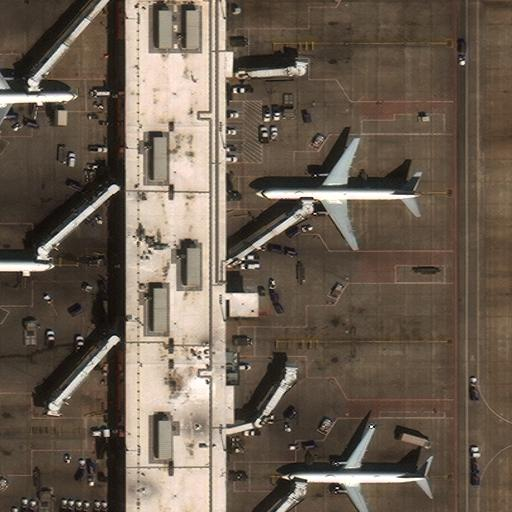Large Civil Transport: (255, 137, 421, 250), (0, 51, 77, 144)
Medium Civil Transport: (281, 425, 427, 512), (0, 232, 55, 296)
